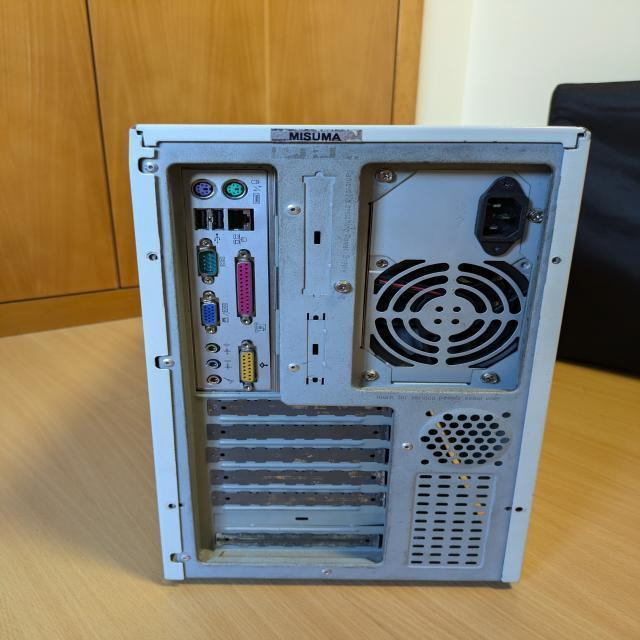PSU: (362, 166, 548, 391)
